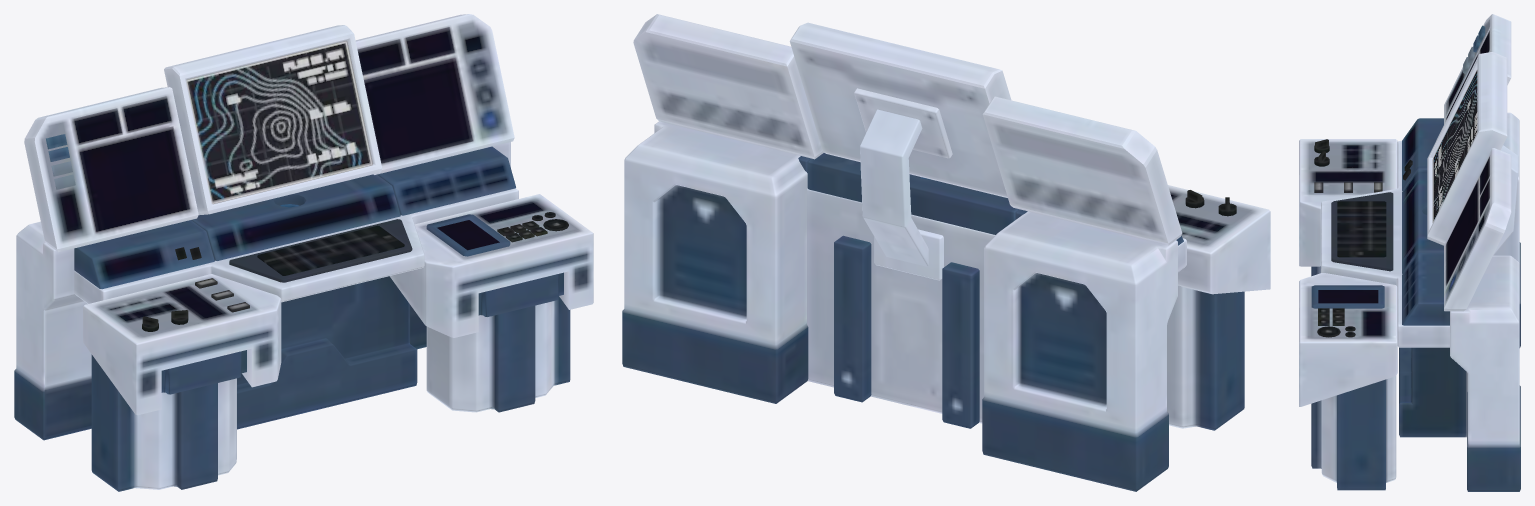
3 views of the same model, side by side, from view 1: azimuth 30°, elevation 25°; view 2: azimuth 150°, elevation 25°; view 3: azimuth 270°, elevation 25° (orthographic). The views are drawn at different scales.
Size of the model in its own units: 19.95 by 13.61 by 9.12.
2 materials, 2 textured.
